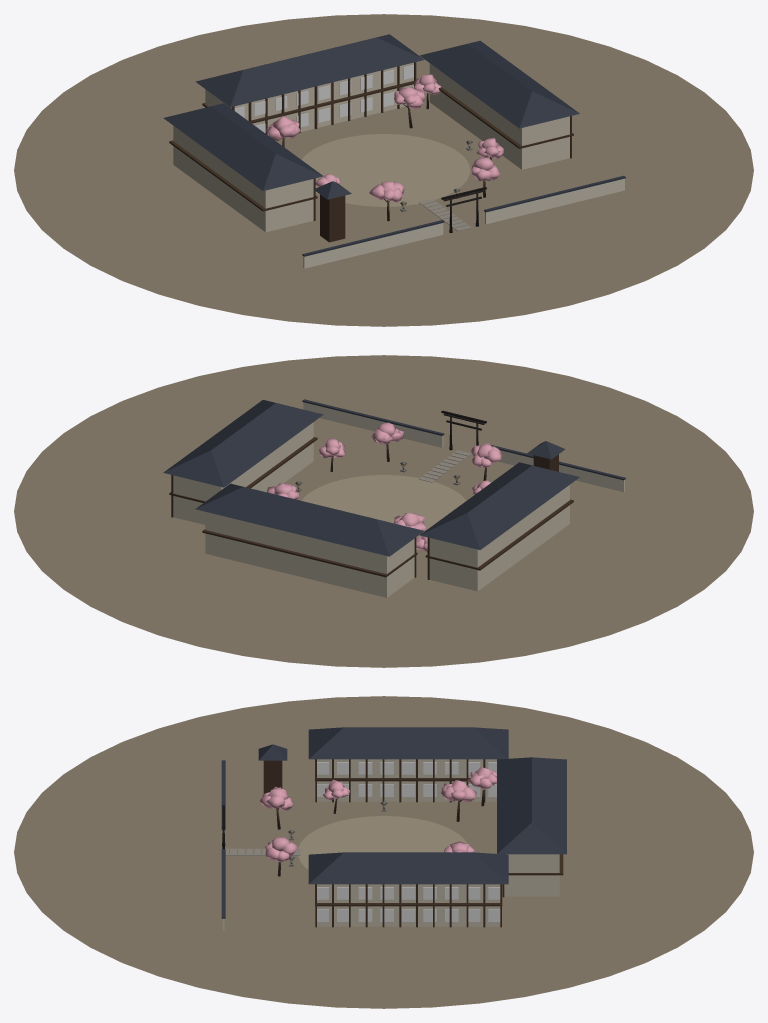
File: academy.glb
3 views of the same model, one above another, from view 1: azimuth 30°, elevation 25°; view 2: azimuth 150°, elevation 25°; view 3: azimuth 270°, elevation 25° (orthographic).
Visible parts, largest first — view 1: academy_0_0, academy_-1_0, academy_-1_-1, academy_0_-1; view 2: academy_0_0, academy_-1_0, academy_0_-1, academy_-1_-1; view 3: academy_0_0, academy_-1_0, academy_-1_-1, academy_0_-1.
Part boxes in pixels (x1,y1,x2,y2): academy_0_0: (14,14,753,326); academy_-1_0: (163,85,329,232); academy_-1_-1: (302,173,452,268); academy_0_-1: (418,116,625,231); academy_0_0: (14,355,753,667); academy_-1_0: (394,462,579,591); academy_0_-1: (302,399,486,482); academy_-1_-1: (453,421,625,494); academy_0_0: (14,696,753,1008); academy_-1_0: (308,727,508,821); academy_-1_-1: (221,744,384,846); academy_0_-1: (221,805,384,930).
Bounding box in the file's own units: 120 × 11.23 × 120.
